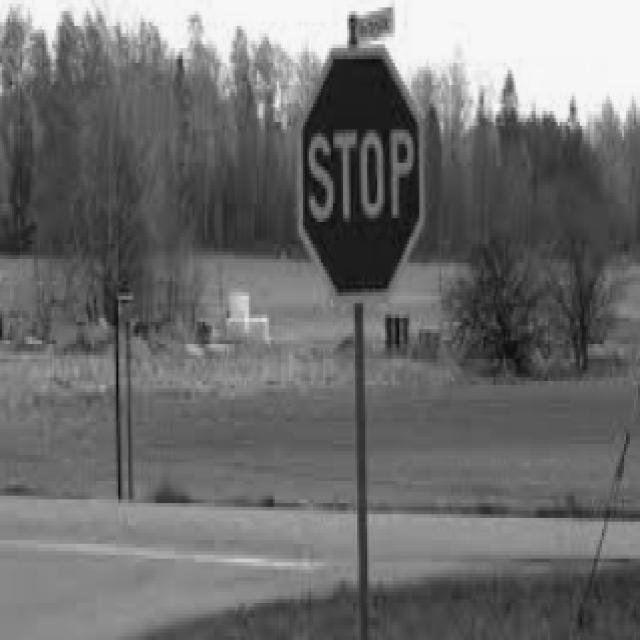Stop-signs: (298, 48, 426, 301)
